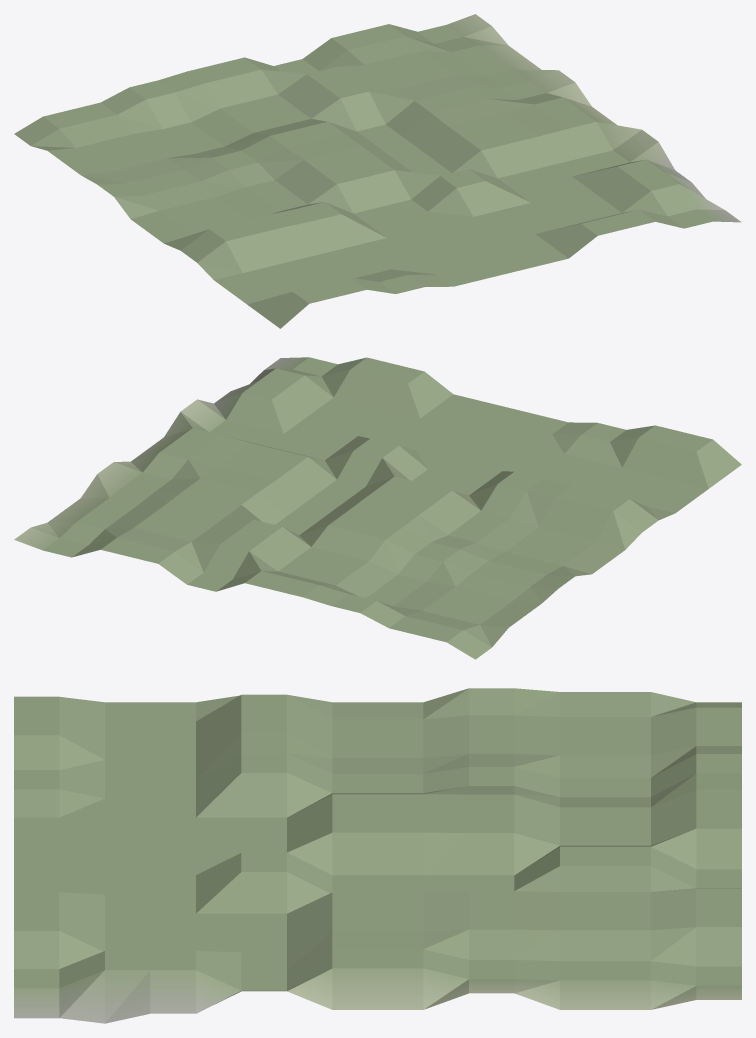
3 renders of one model, top to bottom at view 1: azimuth 30°, elevation 25°; view 2: azimuth 150°, elevation 25°; view 3: azimuth 270°, elevation 25°, orthographic. The views are drawn at different scales.
Size of the model in its own units: 32 by 2.05 by 32.
